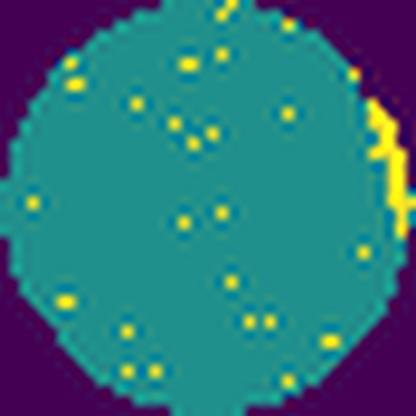Edge-Loc: (360, 95, 416, 243)
